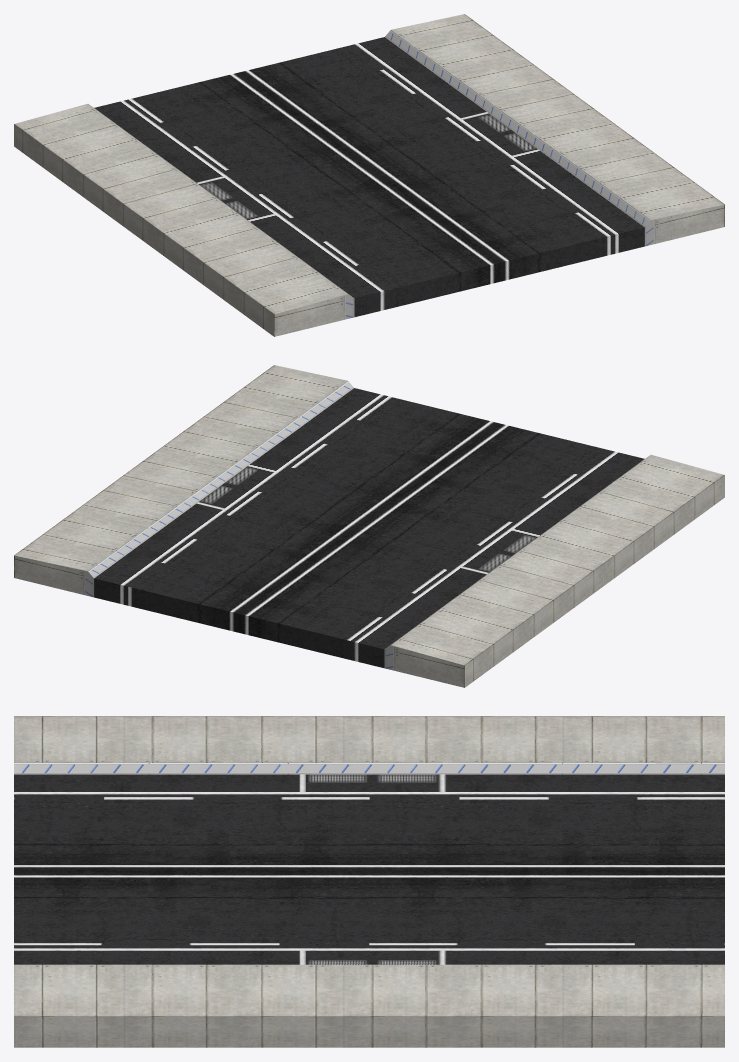
Rendered from StraightRoad.fbx.
The picture shows the model from 3 angles, top to bottom: view 1: azimuth 30°, elevation 25°; view 2: azimuth 150°, elevation 25°; view 3: azimuth 270°, elevation 25°; orthographic projection. The views are drawn at different scales.
Visible parts, largest first — view 1: pPlane1; view 2: pPlane1; view 3: pPlane1.
Boxes of the visible parts, bbox=[...] form: pPlane1: bbox=[14, 14, 724, 336]; pPlane1: bbox=[14, 365, 724, 687]; pPlane1: bbox=[14, 716, 724, 1047].
Bounding box in the file's own units: 800 × 41.85 × 800.
